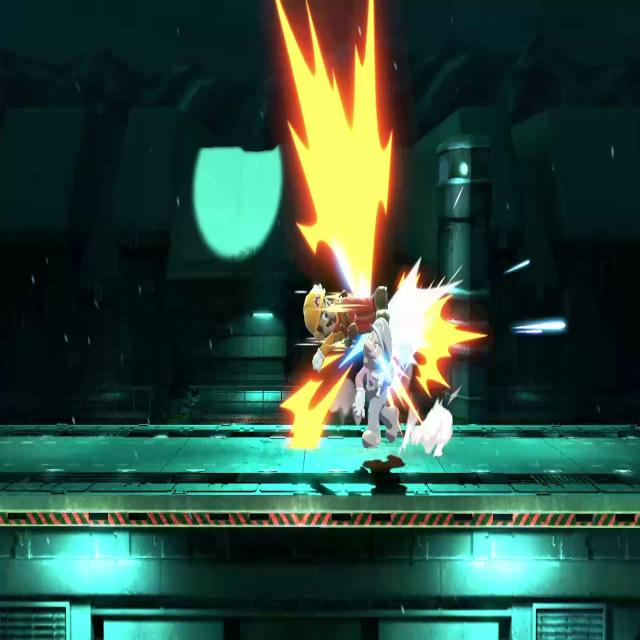Mario: (351, 314, 408, 452)
Mario-BA: (299, 280, 391, 374)
